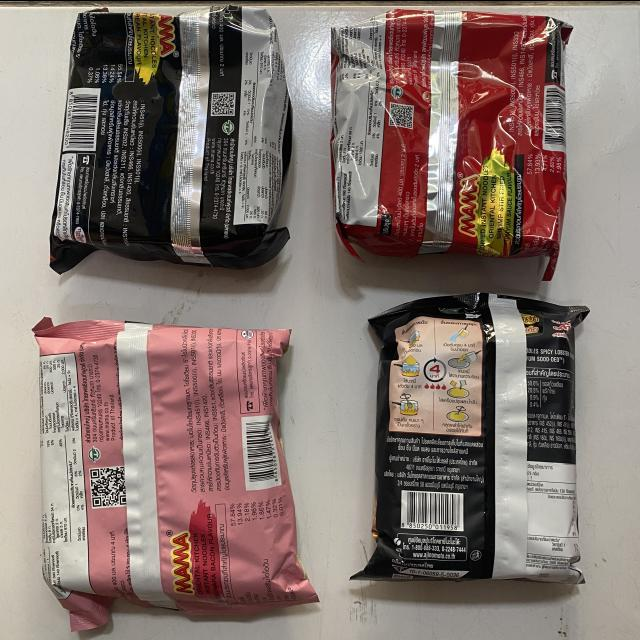plastik: (33, 316, 317, 630), (352, 293, 589, 583), (331, 8, 572, 280), (50, 5, 291, 272)
